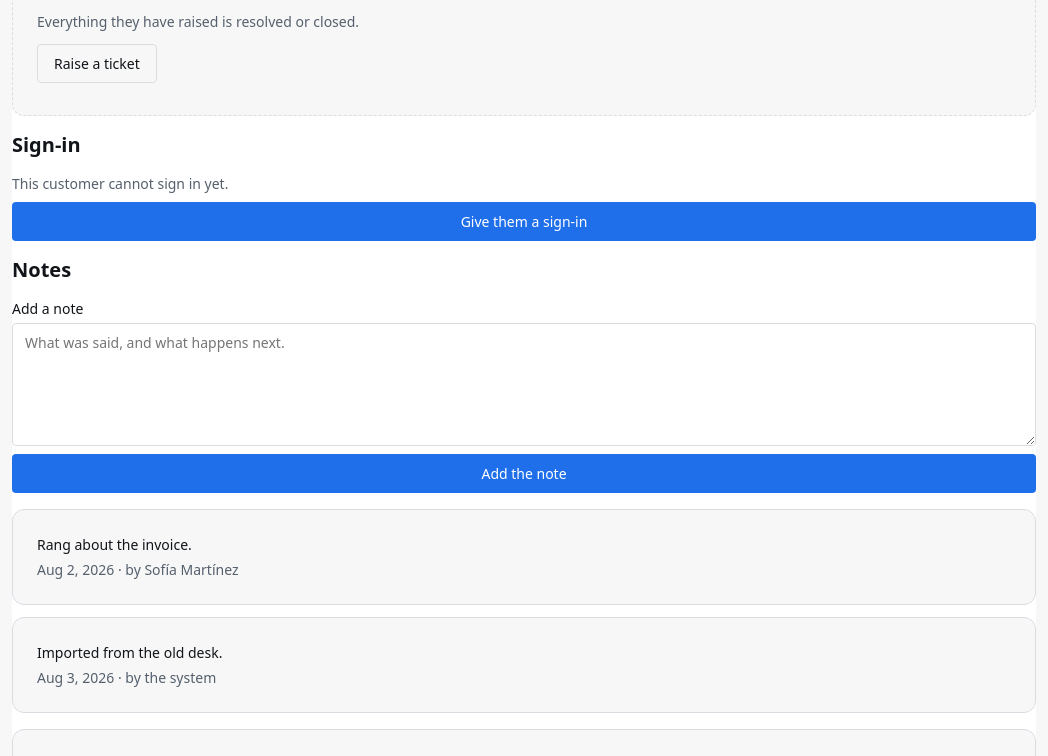
Test: a failed write says what the code means and keeps the draft
The width and height of the screenshot is (1048, 756).
(page scrolled)
In the text box labelled "Add a note": (524, 384) [12,323,1036,446], type "Will not go through."
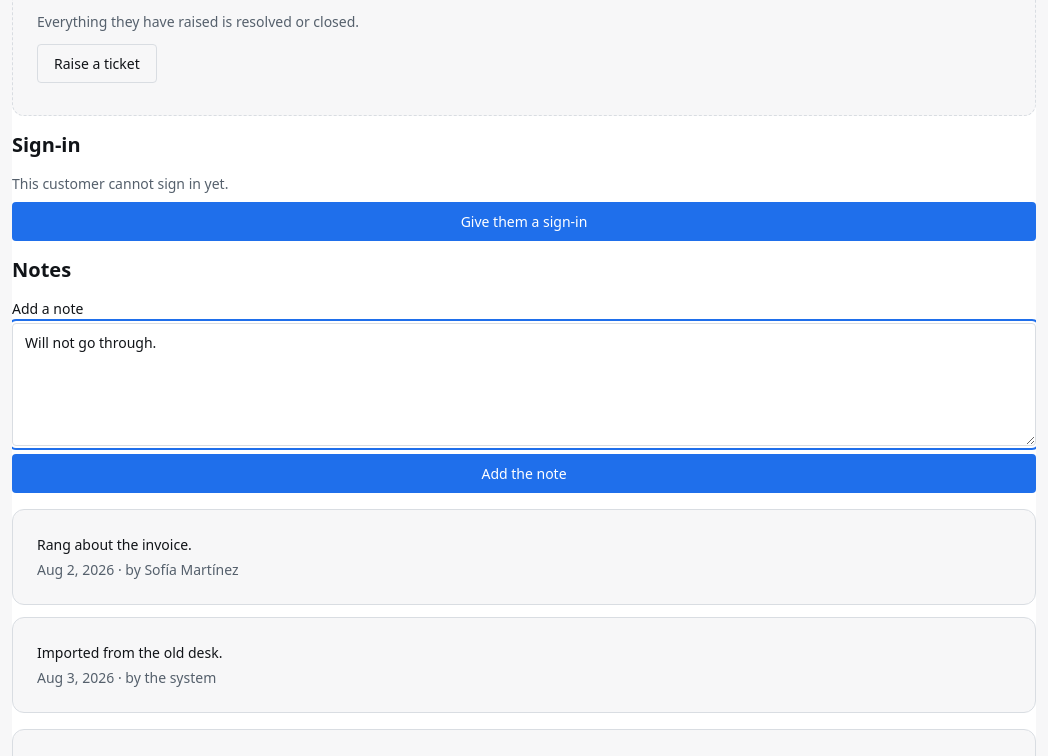
Click the button "Add the note": (524, 474) [12,454,1036,493]
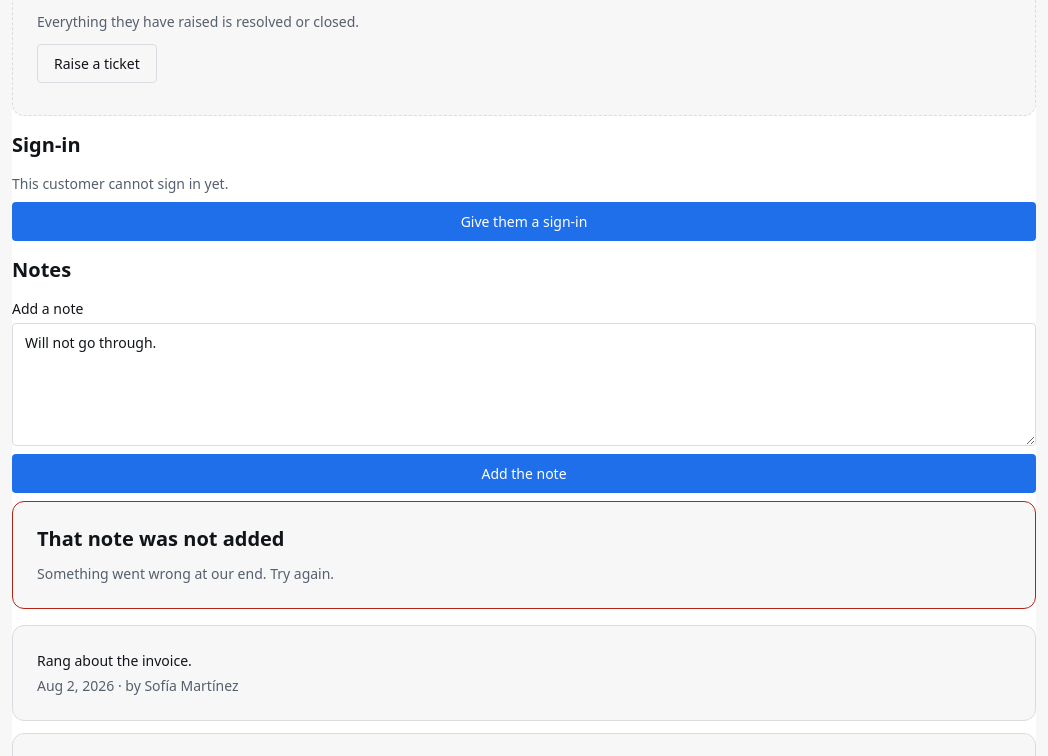
Expected: the heading "That note was not added" is shown, [37,525,284,552]
Expected: the text "Something went wrong at our end. Try again." is shown, [37,564,334,583]
